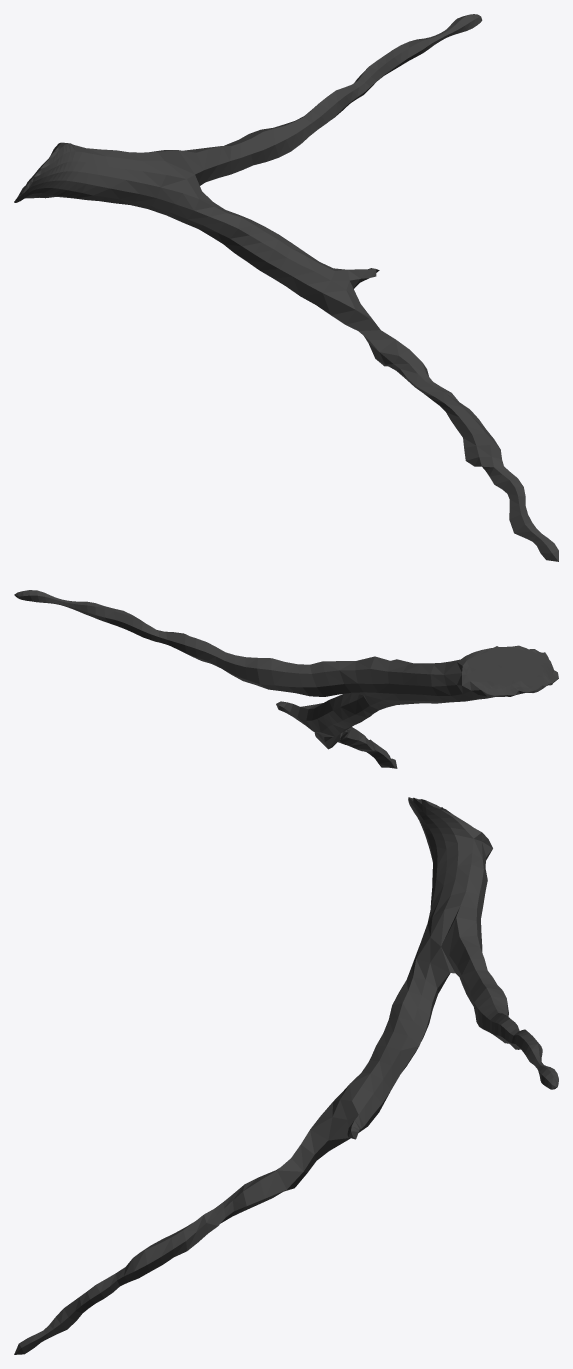
Rendered from Right_accessory_lobe_bronchus.glb.
3 views of the same model, one above another, from view 1: azimuth 30°, elevation 25°; view 2: azimuth 150°, elevation 25°; view 3: azimuth 270°, elevation 25° (orthographic). The views are drawn at different scales.
Parts seen in each view (by area): view 1: Right_accessory_lobe_bronchus; view 2: Right_accessory_lobe_bronchus; view 3: Right_accessory_lobe_bronchus.
Boxes of the visible parts, x1,y1,x2,y2 form: Right_accessory_lobe_bronchus: (14, 14, 558, 561); Right_accessory_lobe_bronchus: (14, 590, 558, 768); Right_accessory_lobe_bronchus: (14, 797, 558, 1354).
Bounding box in the file's own units: 3.31 × 2.07 × 2.67.
Materials: 1 (1 with a texture image).
